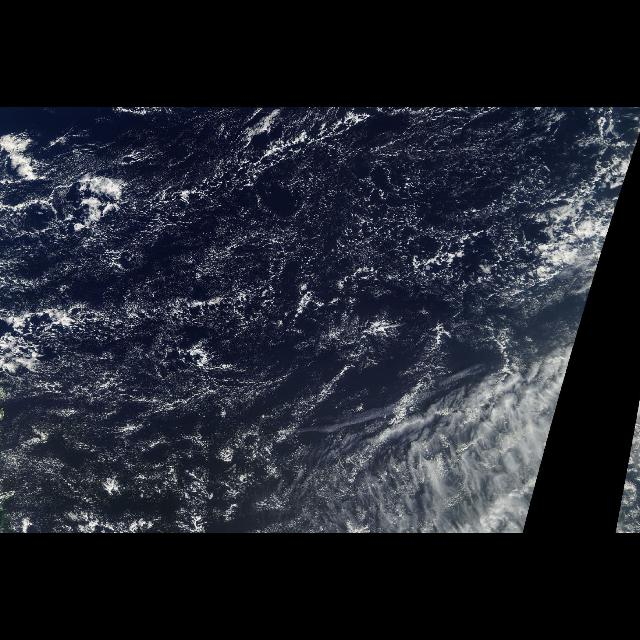Gravel: (9, 110, 609, 532)
Sugar: (8, 366, 254, 532)
